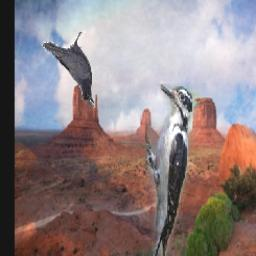Crow: (42, 32, 94, 110)
Woodpecker: (145, 84, 200, 256)
